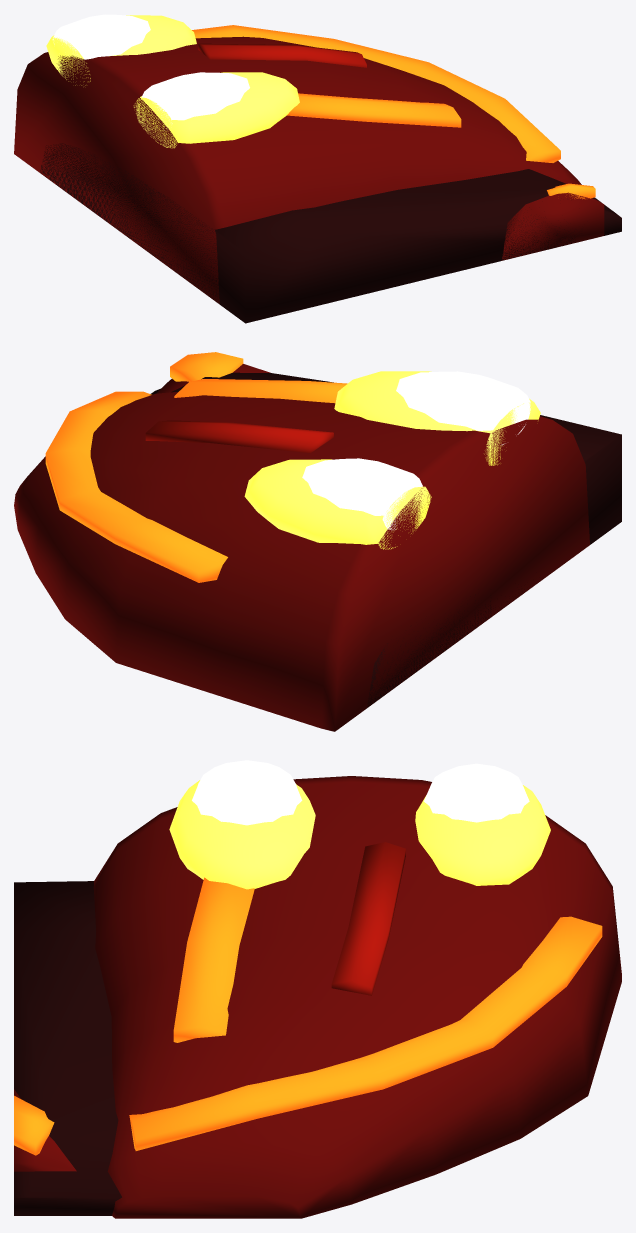
Rendered from newshe-91.glb.
The picture shows the model from 3 angles, top to bottom: view 1: azimuth 30°, elevation 25°; view 2: azimuth 150°, elevation 25°; view 3: azimuth 270°, elevation 25°; orthographic projection. The views are drawn at different scales.
Parts seen in each view (by area): view 1: newshe-91; view 2: newshe-91; view 3: newshe-91.
Part boxes in pixels (x1,y1,x2,y2): newshe-91: [14, 14, 621, 323]; newshe-91: [14, 352, 621, 731]; newshe-91: [14, 760, 621, 1218].
Bounding box in the file's own units: 1.42 × 0.6047 × 1.5.
